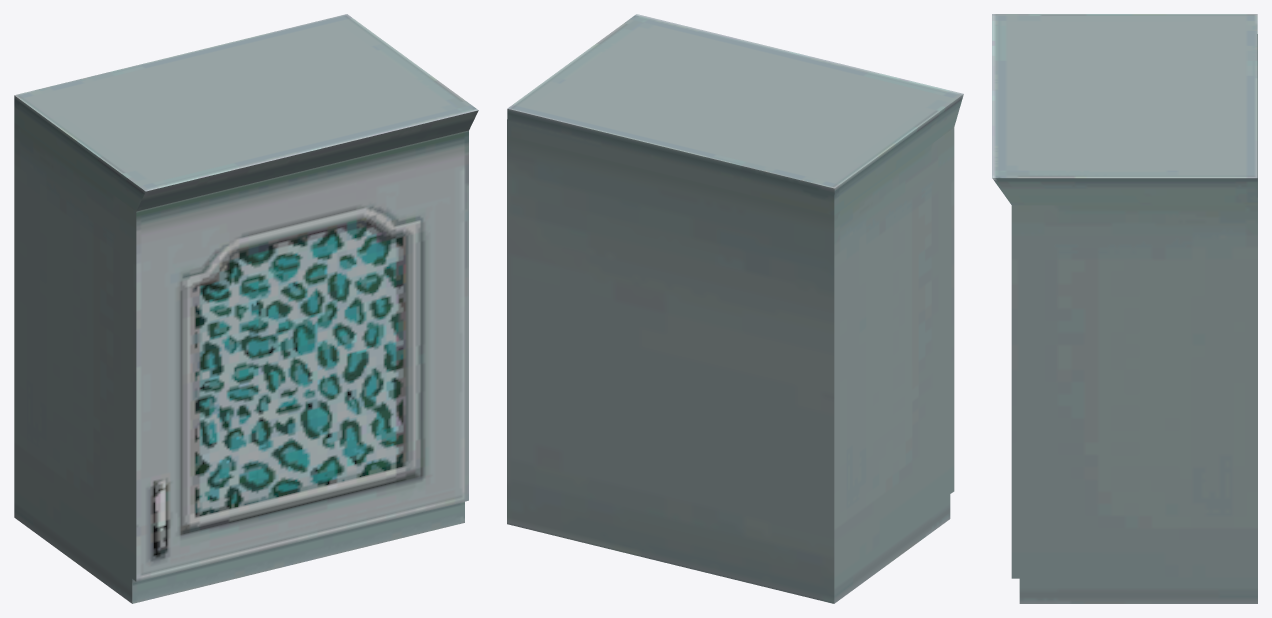
The model's file is furni_0200086_03.FBX.
3 views of the same model, side by side, from view 1: azimuth 30°, elevation 25°; view 2: azimuth 150°, elevation 25°; view 3: azimuth 270°, elevation 25° (orthographic). The views are drawn at different scales.
Visible parts, largest first — view 1: furni_0200086_03; view 2: furni_0200086_03; view 3: furni_0200086_03.
Part boxes in pixels (x1=…): furni_0200086_03: x1=14, y1=14, x2=478, y2=603; furni_0200086_03: x1=507, y1=14, x2=963, y2=603; furni_0200086_03: x1=992, y1=14, x2=1257, y2=603.
Bounding box in the file's own units: 80.02 × 97.02 × 54.87.
1 material, 1 textured.
